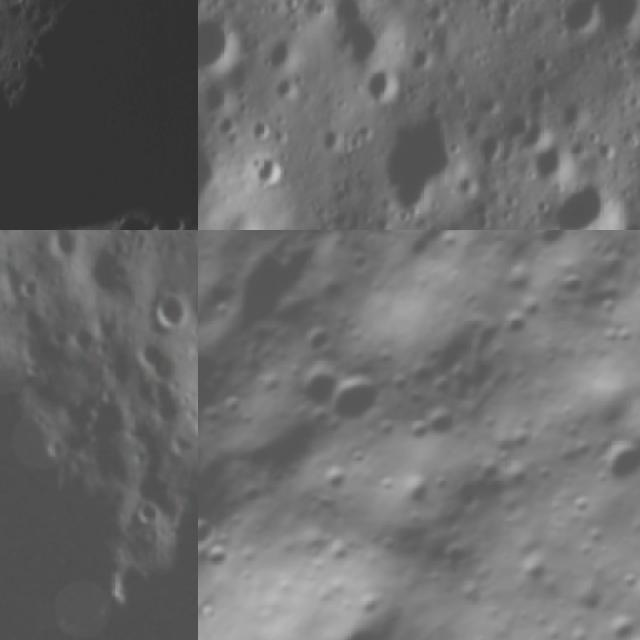crater: (358, 97, 479, 230), (314, 363, 398, 446), (198, 100, 246, 230), (74, 239, 145, 311), (547, 167, 627, 230), (281, 356, 348, 426), (582, 432, 640, 501), (198, 4, 249, 77), (129, 329, 188, 390), (420, 398, 475, 454), (544, 266, 596, 316), (149, 285, 194, 336), (517, 230, 582, 265), (292, 317, 340, 364), (202, 540, 246, 584), (493, 310, 535, 351), (512, 293, 554, 334), (396, 410, 436, 450), (126, 493, 165, 532), (198, 507, 224, 562), (105, 211, 160, 230)
